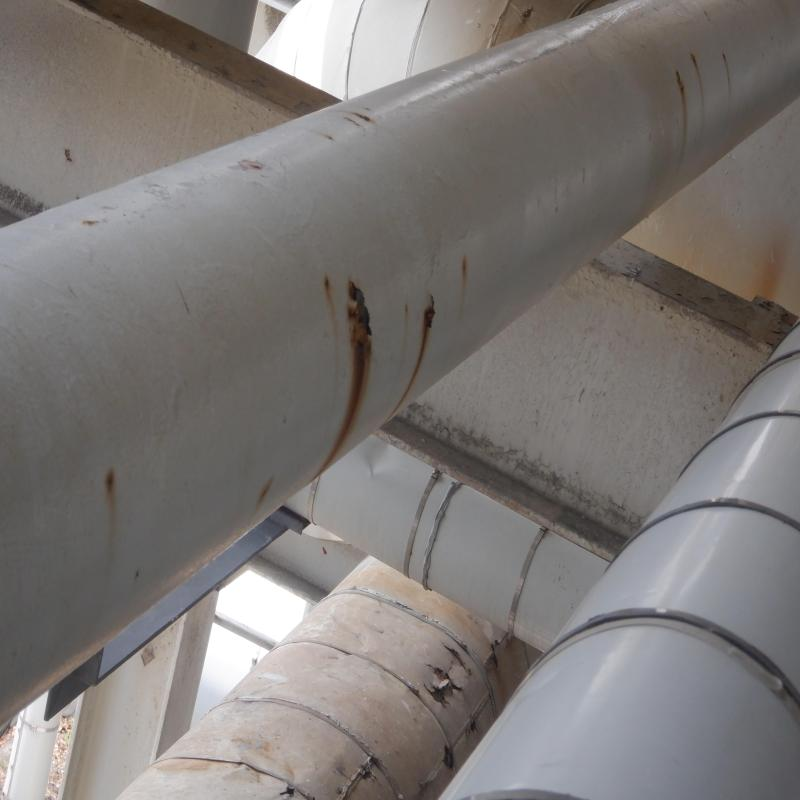corrosion: (345, 287, 375, 412), (423, 304, 438, 340)
